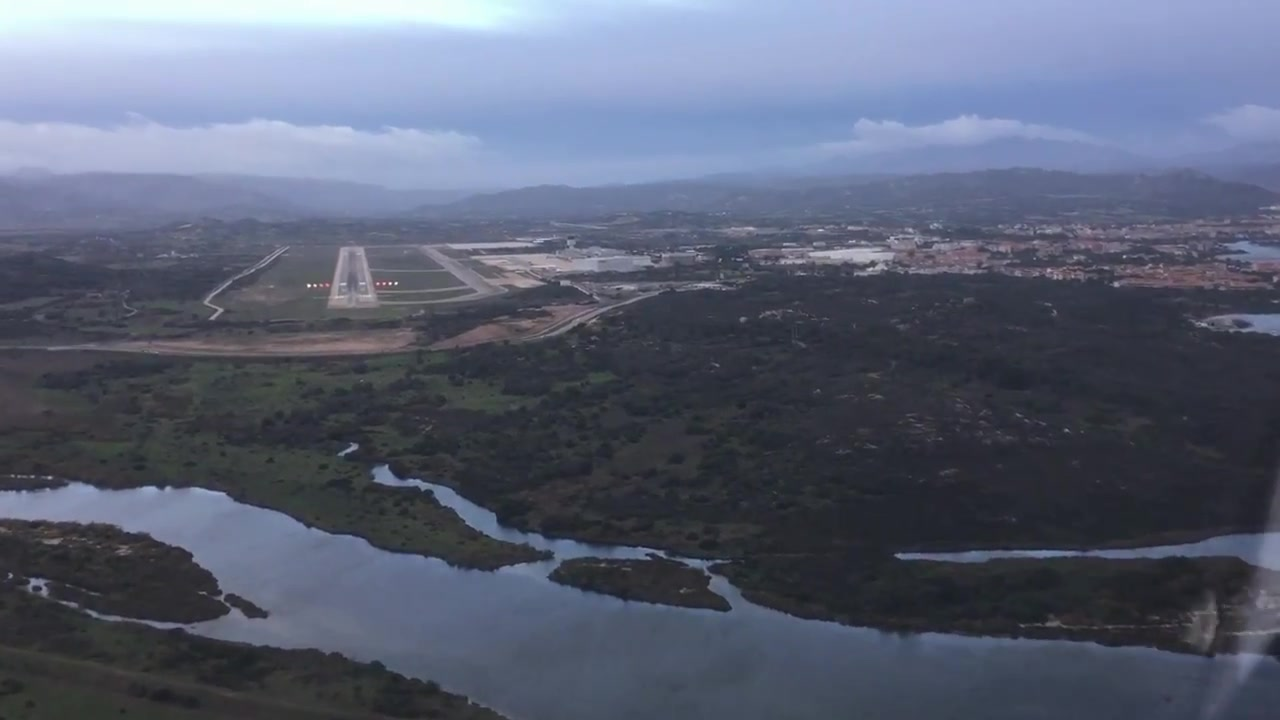runway: (322, 246, 382, 307)
